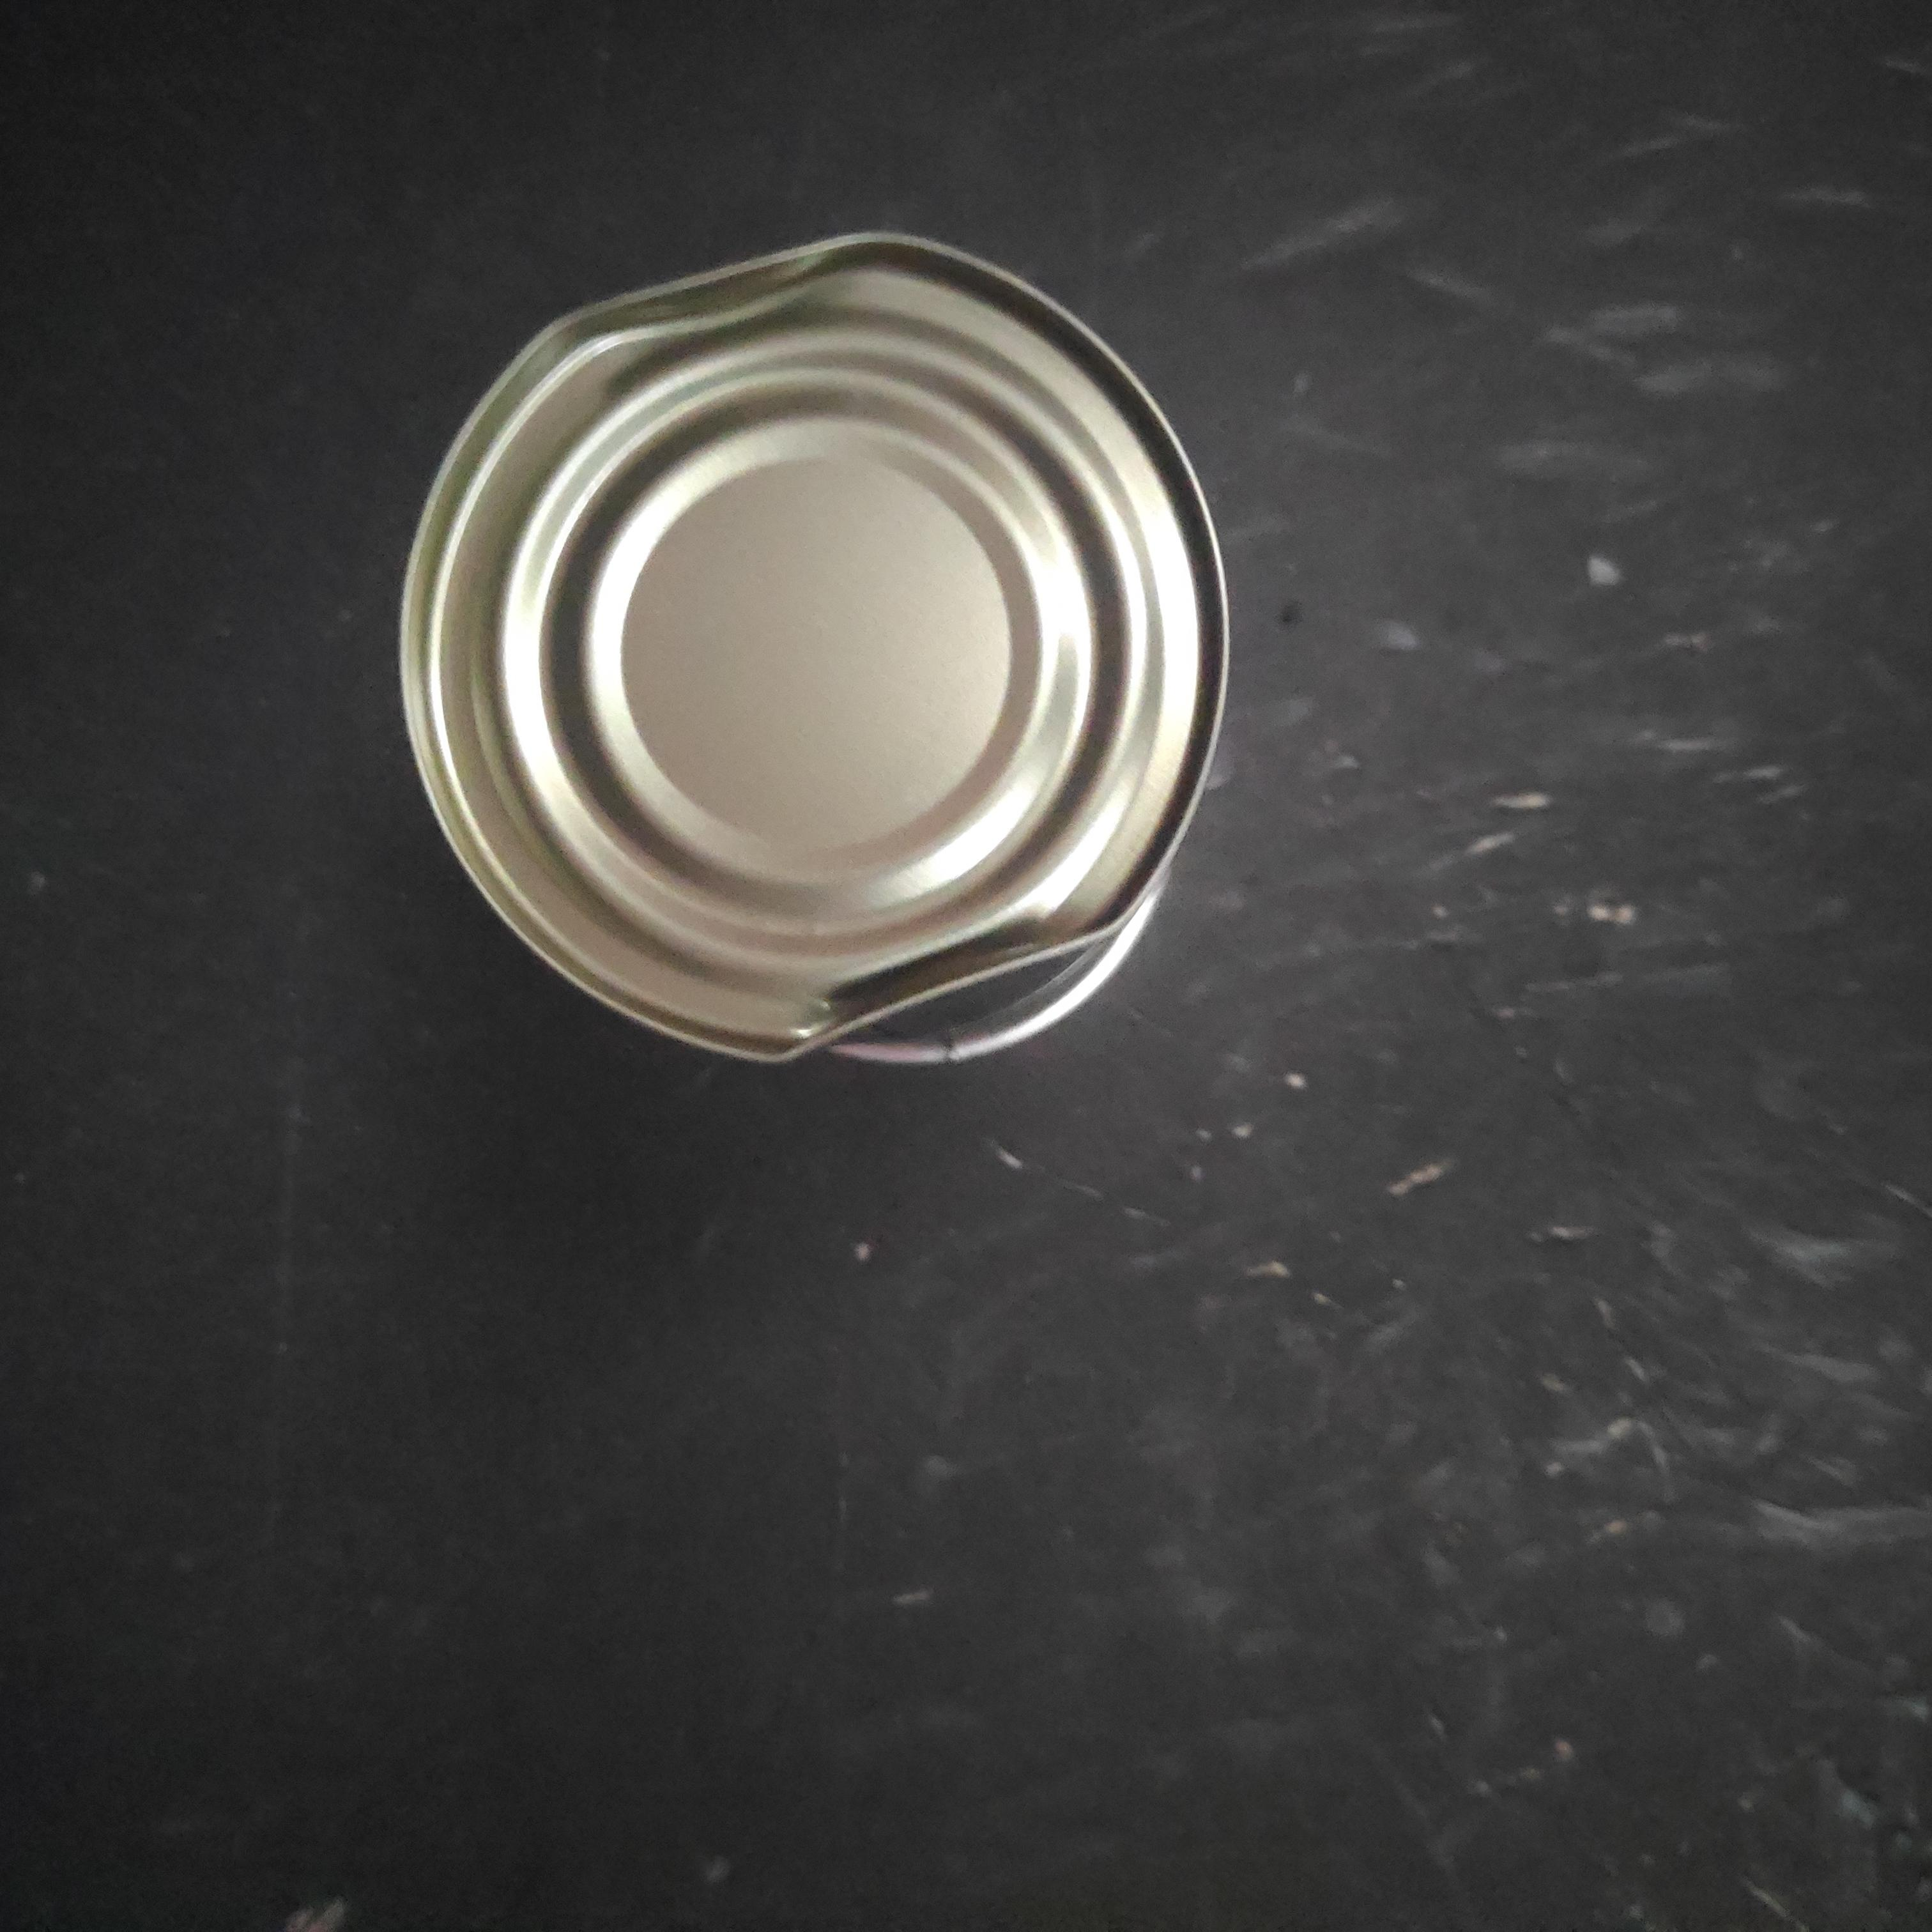Minor Defect: (384, 212, 1237, 1079)
